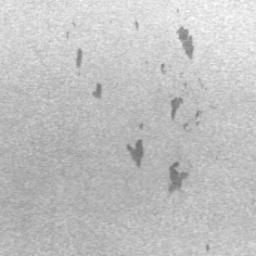Iron scale compression: (169, 162, 188, 195), (176, 26, 193, 60), (126, 140, 144, 169), (171, 97, 183, 121), (76, 48, 83, 76), (92, 83, 102, 100), (195, 110, 203, 118), (183, 121, 189, 129)
